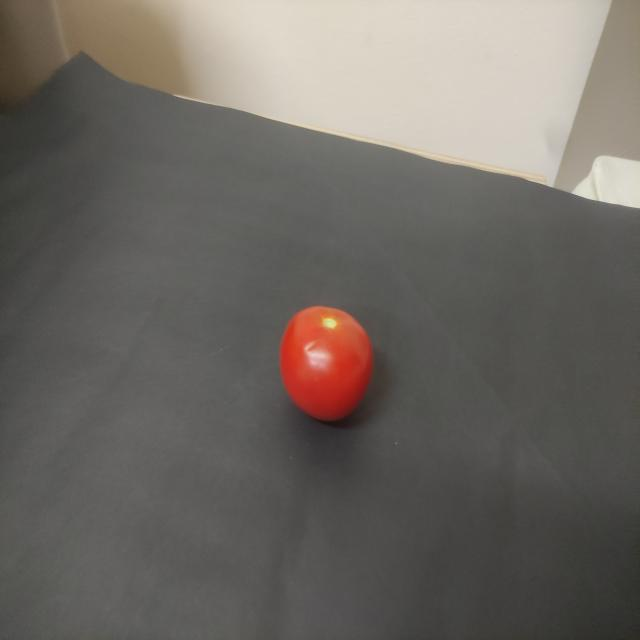kirmizi: (269, 280, 379, 433)
